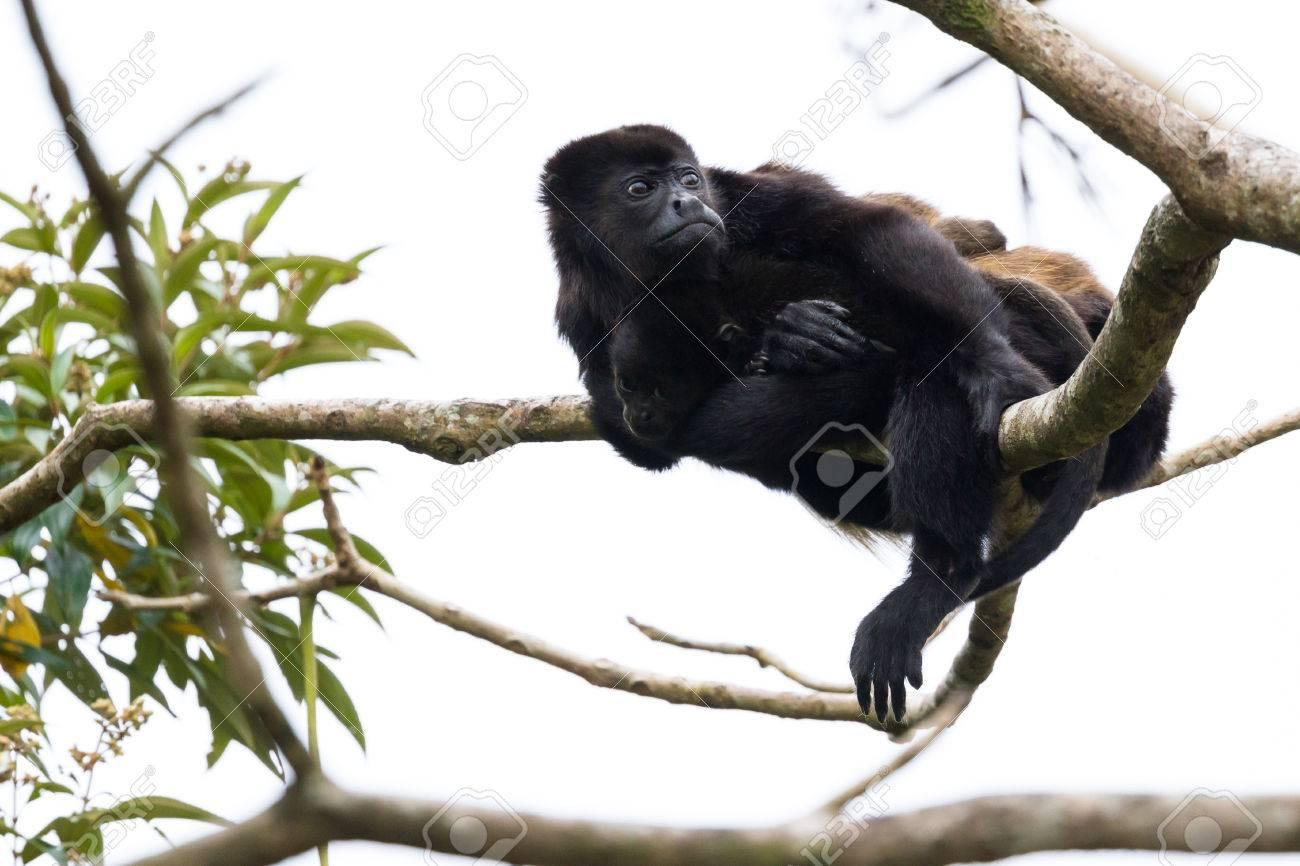monkey: (536, 125, 1173, 741)
